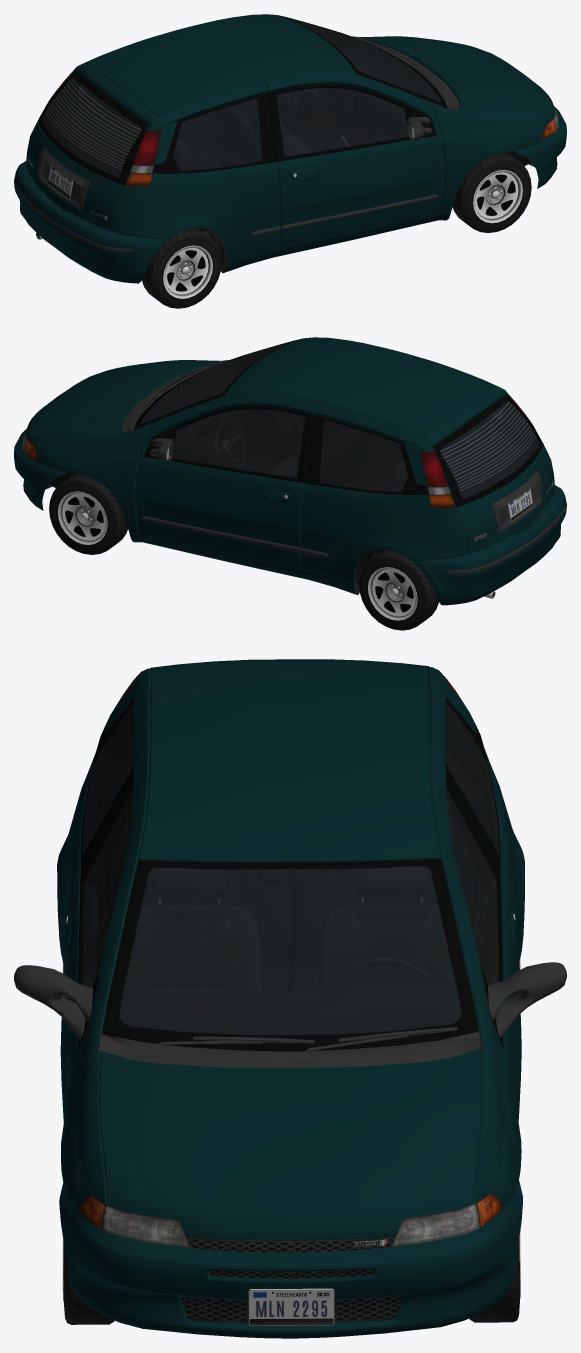
File: milano_95.glb
3 views of the same model, one above another, from view 1: azimuth 30°, elevation 25°; view 2: azimuth 150°, elevation 25°; view 3: azimuth 270°, elevation 25° (orthographic). The views are drawn at different scales.
Parts seen in each view (by area): view 1: Milano95_Body_Milano95_Bodymat_0, Milano95_StockKit_Milano95_Bodymat_0, Milano95_interior_UCB_Interiors_2_0, Milano95_Bottom_UCB_BOTTOM_0, Milano95_Glass_Passanger_UCB_Lights_and_Glass_Transperent_0, Milano95_Hood_Milano95_Bodymat_0, Milano95_Bumper_rear_Milano95_Bodymat_0, Milano95_Glass_Rear_UCB_Lights_and_Glass_Transperent_0, Milano95_Glass_UCB_Lights_and_Glass_Transperent_0, Milano95_WheelStock_FR_RB1c_Tire_1k_0, Milano95_WheelStock_RR_RB1c_Tire_1k_0, Milano95_Windshield_UCB_Lights_and_Glass_Transperent_0 (+6 smaller); view 2: Milano95_Body_Milano95_Bodymat_0, Milano95_StockKit_Milano95_Bodymat_0, Milano95_interior_UCB_Interiors_2_0, Milano95_Bottom_UCB_BOTTOM_0, Milano95_Glass_Driver_UCB_Lights_and_Glass_Transperent_0, Milano95_Hood_Milano95_Bodymat_0, Milano95_Bumper_rear_Milano95_Bodymat_0, Milano95_Glass_Rear_UCB_Lights_and_Glass_Transperent_0, Milano95_Glass_UCB_Lights_and_Glass_Transperent_0, Milano95_WheelStock_FL_RB1c_Tire_1k_0, Milano95_WheelStock_RL_RB1c_Tire_1k_0, Milano95_Windshield_UCB_Lights_and_Glass_Transperent_0 (+7 smaller); view 3: Milano95_Body_Milano95_Bodymat_0, Milano95_interior_UCB_Interiors_2_0, Milano95_Hood_Milano95_Bodymat_0, Milano95_Windshield_UCB_Lights_and_Glass_Transperent_0, Milano95_Bottom_UCB_BOTTOM_0, Milano95_Bumper_front_Milano95_Bodymat_0, Milano95_StockKit_Milano95_Bodymat_0, Milano95_Glass_UCB_Lights_and_Glass_Transperent_0, Milano95_Headlights_Glass_UCB_Lights_and_Glass_Transperent_0, Milano95_Glass_Driver_UCB_Lights_and_Glass_Transperent_0, Milano95_Glass_Passanger_UCB_Lights_and_Glass_Transperent_0, Milano95_Headlights_UCB_Lights_and_Glass_0 (+5 smaller).
Part boxes in pixels (left/top/right/bottom): Milano95_Body_Milano95_Bodymat_0: left=26, top=14, right=445, bottom=246; Milano95_StockKit_Milano95_Bodymat_0: left=26, top=36, right=552, bottom=272; Milano95_interior_UCB_Interiors_2_0: left=42, top=20, right=439, bottom=176; Milano95_Bottom_UCB_BOTTOM_0: left=37, top=15, right=541, bottom=273; Milano95_Glass_Passanger_UCB_Lights_and_Glass_Transperent_0: left=276, top=88, right=408, bottom=156; Milano95_Hood_Milano95_Bodymat_0: left=361, top=36, right=555, bottom=118; Milano95_Bumper_rear_Milano95_Bodymat_0: left=14, top=161, right=168, bottom=283; Milano95_Glass_Rear_UCB_Lights_and_Glass_Transperent_0: left=42, top=78, right=141, bottom=176; Milano95_Glass_UCB_Lights_and_Glass_Transperent_0: left=79, top=86, right=261, bottom=170; Milano95_WheelStock_FR_RB1c_Tire_1k_0: left=452, top=152, right=531, bottom=232; Milano95_WheelStock_RR_RB1c_Tire_1k_0: left=142, top=228, right=221, bottom=308; Milano95_Windshield_UCB_Lights_and_Glass_Transperent_0: left=288, top=18, right=440, bottom=101; Milano95_Body_Milano95_Bodymat_0: left=135, top=337, right=554, bottom=568; Milano95_StockKit_Milano95_Bodymat_0: left=28, top=360, right=554, bottom=594; Milano95_interior_UCB_Interiors_2_0: left=141, top=343, right=538, bottom=497; Milano95_Bottom_UCB_BOTTOM_0: left=45, top=338, right=543, bottom=594; Milano95_Glass_Driver_UCB_Lights_and_Glass_Transperent_0: left=172, top=409, right=305, bottom=478; Milano95_Hood_Milano95_Bodymat_0: left=25, top=360, right=219, bottom=440; Milano95_Bumper_rear_Milano95_Bodymat_0: left=413, top=485, right=566, bottom=605; Milano95_Glass_Rear_UCB_Lights_and_Glass_Transperent_0: left=440, top=401, right=539, bottom=498; Milano95_Glass_UCB_Lights_and_Glass_Transperent_0: left=319, top=409, right=501, bottom=492; Milano95_WheelStock_FL_RB1c_Tire_1k_0: left=49, top=474, right=127, bottom=554; Milano95_WheelStock_RL_RB1c_Tire_1k_0: left=359, top=550, right=438, bottom=630; Milano95_Windshield_UCB_Lights_and_Glass_Transperent_0: left=141, top=341, right=293, bottom=423; Milano95_Body_Milano95_Bodymat_0: left=60, top=663, right=521, bottom=1122; Milano95_interior_UCB_Interiors_2_0: left=82, top=704, right=498, bottom=1034; Milano95_Hood_Milano95_Bodymat_0: left=99, top=1049, right=481, bottom=1240; Milano95_Windshield_UCB_Lights_and_Glass_Transperent_0: left=119, top=866, right=461, bottom=1034; Milano95_Bottom_UCB_BOTTOM_0: left=14, top=697, right=566, bottom=1252; Milano95_Bumper_front_Milano95_Bodymat_0: left=59, top=1180, right=522, bottom=1338; Milano95_StockKit_Milano95_Bodymat_0: left=57, top=659, right=524, bottom=1209; Milano95_Glass_UCB_Lights_and_Glass_Transperent_0: left=82, top=702, right=498, bottom=854; Milano95_Headlights_Glass_UCB_Lights_and_Glass_Transperent_0: left=78, top=1193, right=503, bottom=1248; Milano95_Glass_Driver_UCB_Lights_and_Glass_Transperent_0: left=446, top=788, right=498, bottom=985; Milano95_Glass_Passanger_UCB_Lights_and_Glass_Transperent_0: left=82, top=790, right=133, bottom=987; Milano95_Headlights_UCB_Lights_and_Glass_0: left=102, top=1203, right=479, bottom=1247.
Bounding box in the file's own units: 3.85 × 1.44 × 1.93.
Materials: 8 (7 with a texture image).
